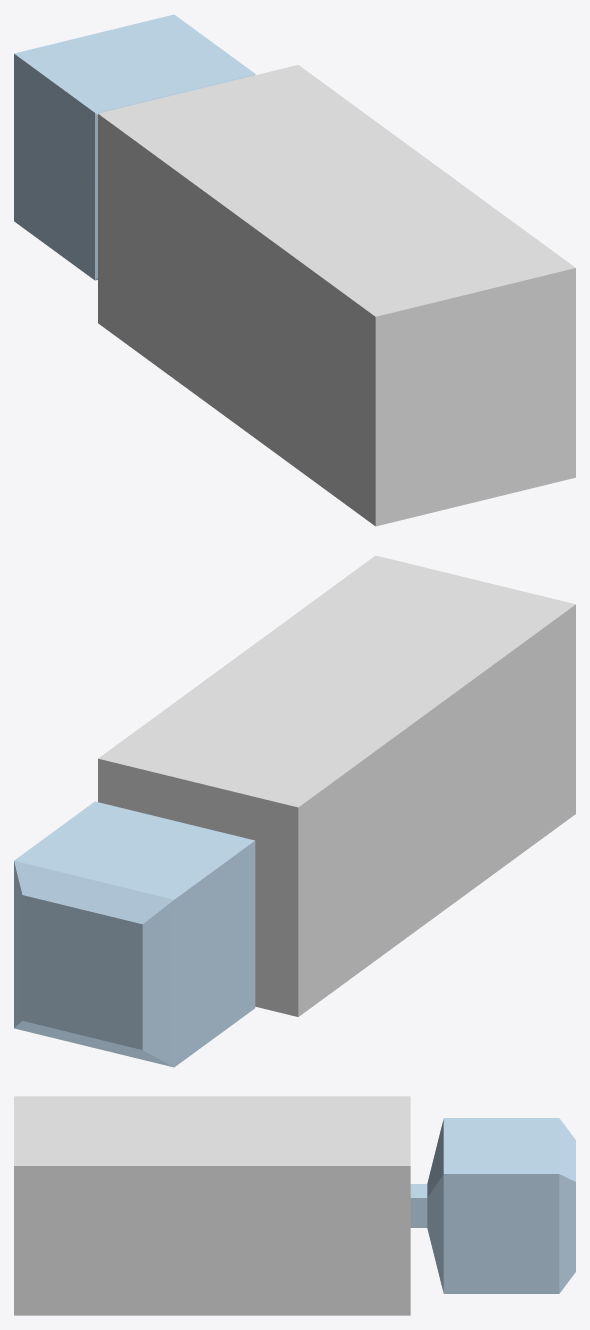
File: WaterCooler.fbx
The picture shows the model from 3 angles, top to bottom: view 1: azimuth 30°, elevation 25°; view 2: azimuth 150°, elevation 25°; view 3: azimuth 270°, elevation 25°; orthographic projection. The views are drawn at different scales.
Parts seen in each view (by area): view 1: Box001; view 2: Box001; view 3: Box001.
Part boxes in pixels (bbox=[...]): Box001: bbox=[14, 14, 575, 526]; Box001: bbox=[14, 555, 575, 1067]; Box001: bbox=[14, 1096, 575, 1315].
Size of the model in its own units: 50 by 52.5 by 170.
1 material, 1 textured.
